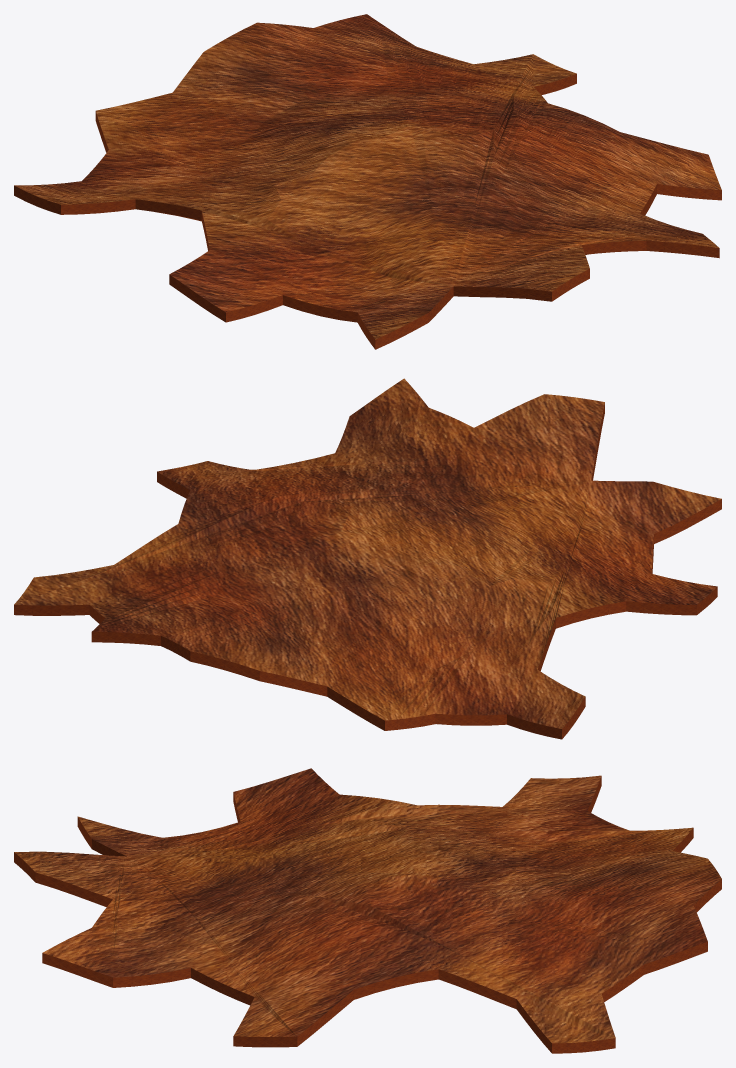
The model's file is predator_hide.obj.
3 renders of one model, top to bottom at view 1: azimuth 30°, elevation 25°; view 2: azimuth 150°, elevation 25°; view 3: azimuth 270°, elevation 25°, orthographic. The views are drawn at different scales.
Parts seen in each view (by area): view 1: sheet; view 2: sheet; view 3: sheet.
Boxes of the visible parts, x1,y1,x2,y2 form: sheet: (14,14,721,349); sheet: (14,378,721,739); sheet: (14,768,721,1053).
Bounding box in the file's own units: 112 × 13.4 × 124.
Materials: 1 (1 with a texture image).
